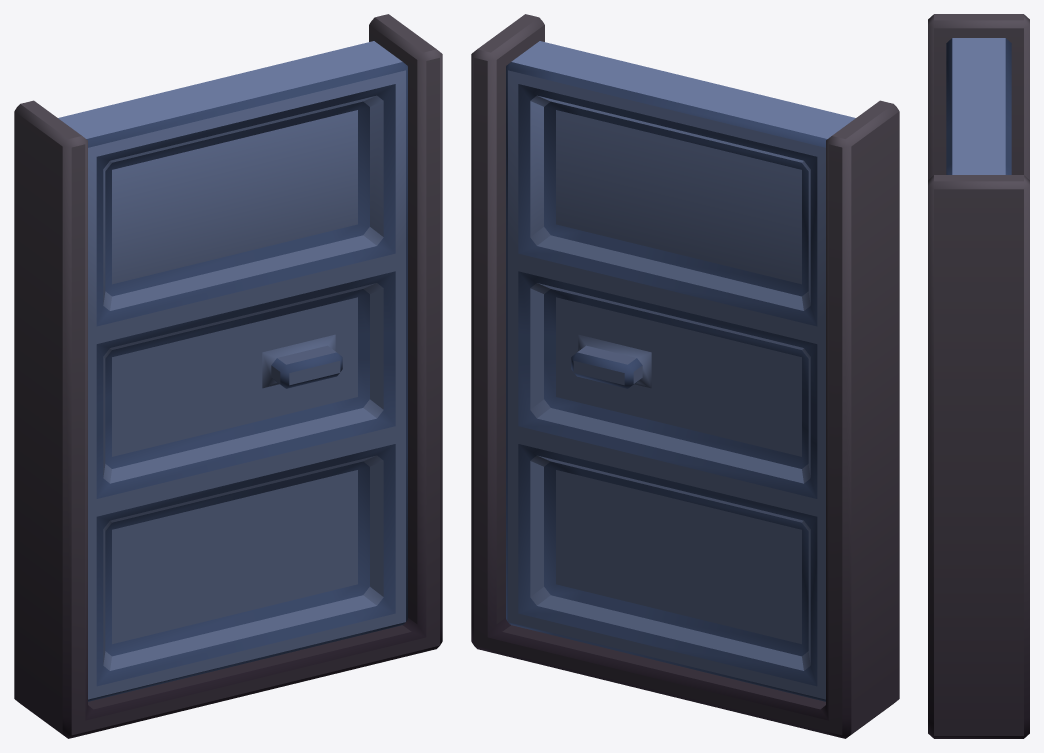
Rendered from Door.fbx.
The picture shows the model from 3 angles, left to right: view 1: azimuth 30°, elevation 25°; view 2: azimuth 150°, elevation 25°; view 3: azimuth 270°, elevation 25°; orthographic projection. The views are drawn at different scales.
Parts seen in each view (by area): view 1: Door, Door Base; view 2: Door, Door Base; view 3: Door Base, Door.
Part boxes in pixels (left/top/right/bottom): Door: left=58, top=41, right=407, bottom=701; Door Base: left=14, top=14, right=442, bottom=738; Door: left=506, top=41, right=855, bottom=701; Door Base: left=471, top=14, right=899, bottom=738; Door Base: left=928, top=14, right=1029, bottom=738; Door: left=946, top=38, right=1011, bottom=174.
Size of the model in its own units: 200 by 302 by 50.
